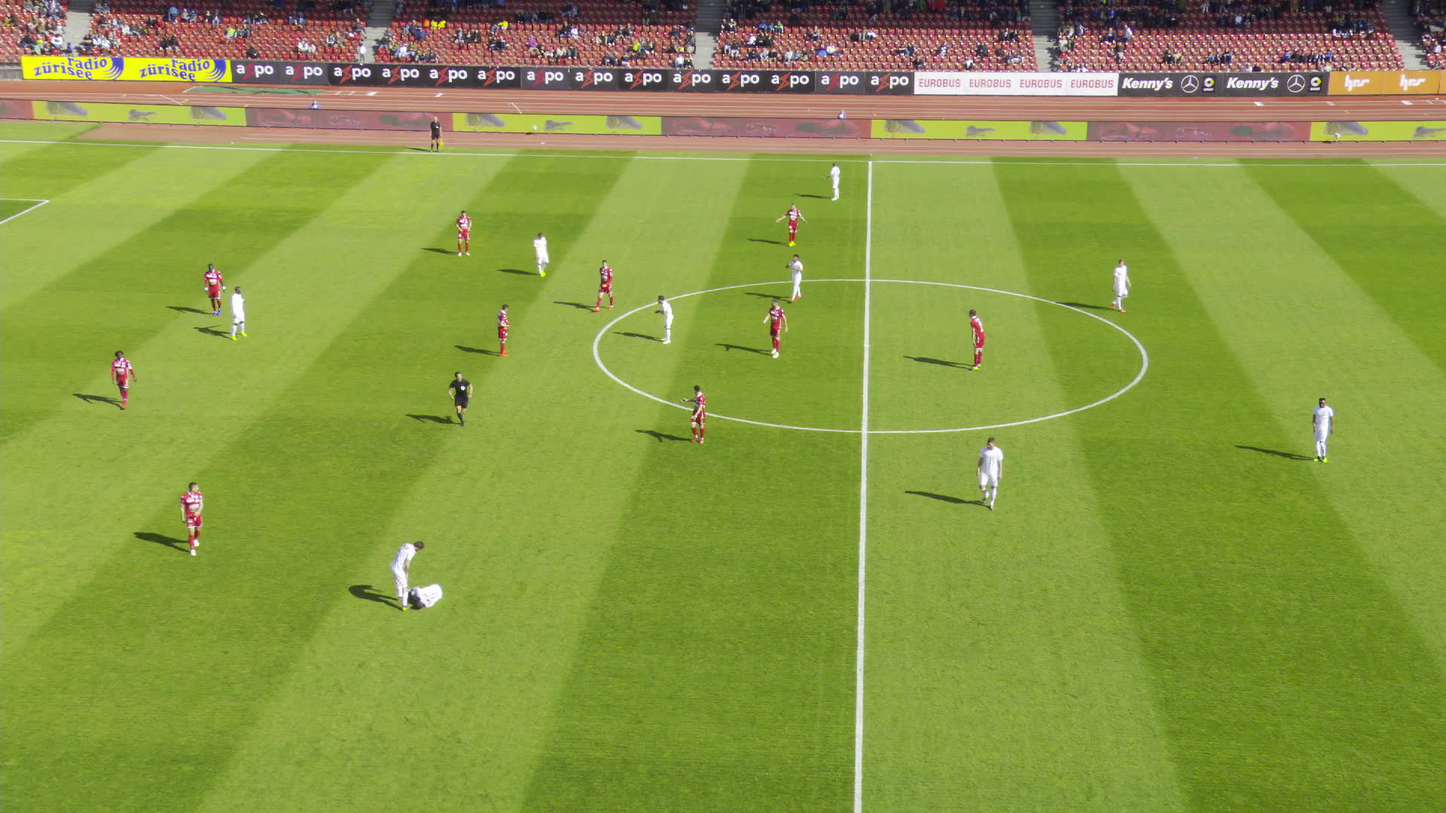player: (389, 538, 422, 611), (975, 437, 1001, 510), (176, 481, 201, 555), (108, 349, 135, 408), (760, 298, 786, 357), (1309, 397, 1332, 461), (773, 202, 806, 246), (681, 384, 703, 444), (1106, 257, 1130, 312), (591, 258, 613, 310), (203, 263, 224, 315), (967, 308, 984, 370), (651, 295, 672, 343), (783, 252, 803, 302), (227, 285, 245, 339), (405, 583, 440, 609), (529, 231, 547, 276), (453, 209, 470, 256), (494, 303, 508, 357), (821, 161, 838, 200)
referee: (446, 368, 471, 425), (427, 115, 441, 151)
